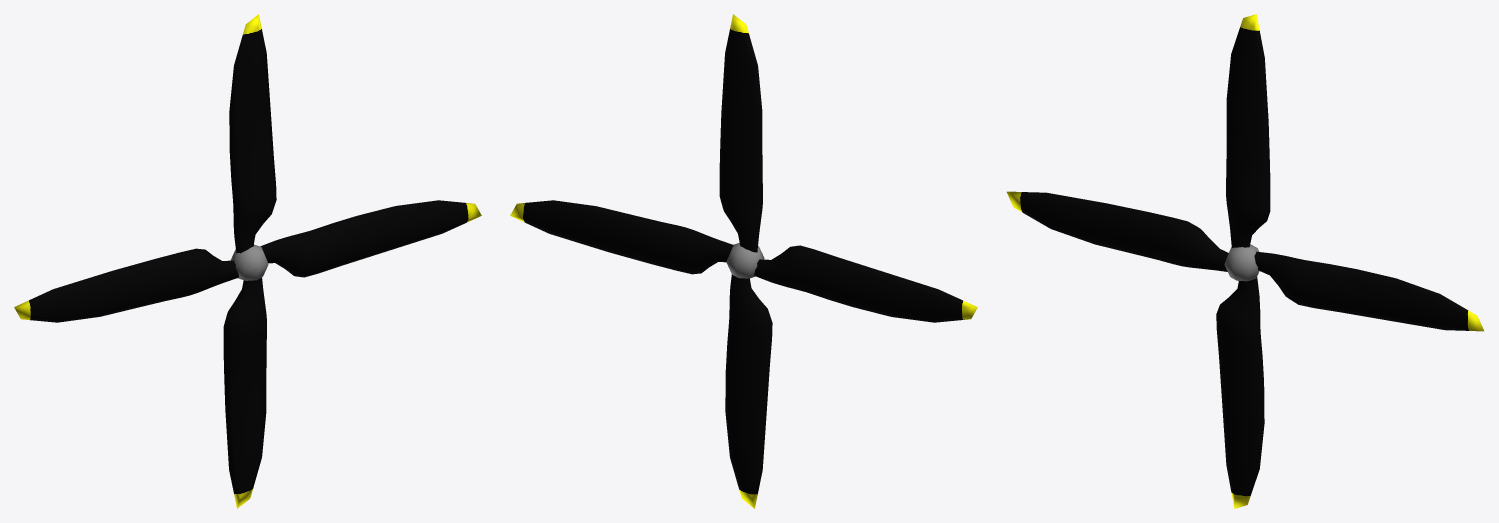
File: propeller.obj
3 views of the same model, side by side, from view 1: azimuth 30°, elevation 25°; view 2: azimuth 150°, elevation 25°; view 3: azimuth 330°, elevation 25° (orthographic). The views are drawn at different scales.
Visible parts, largest first — view 1: Cube_Cube.001, Sphere; view 2: Cube_Cube.001, Sphere; view 3: Cube_Cube.001, Sphere.
Boxes of the visible parts, box(x1,y1,x2,y2) form: Cube_Cube.001: box(14, 14, 481, 508); Sphere: box(230, 244, 268, 280); Cube_Cube.001: box(510, 14, 977, 508); Sphere: box(726, 243, 764, 278); Cube_Cube.001: box(1006, 14, 1483, 508); Sphere: box(1224, 244, 1259, 281).
Size of the model in its own units: 6.77 by 6.77 by 0.4942.
